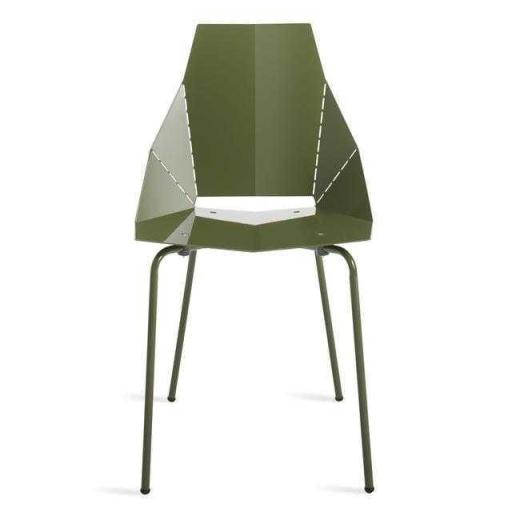chair: (131, 18, 387, 504)
